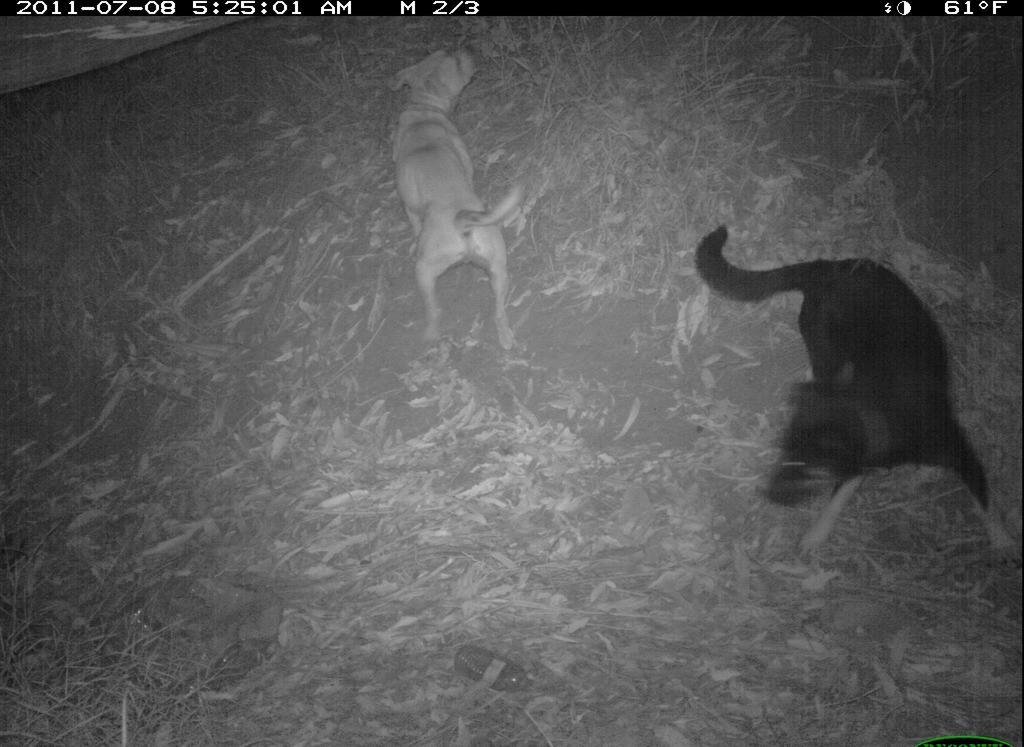dog: (701, 214, 1017, 584), (381, 38, 538, 355)
